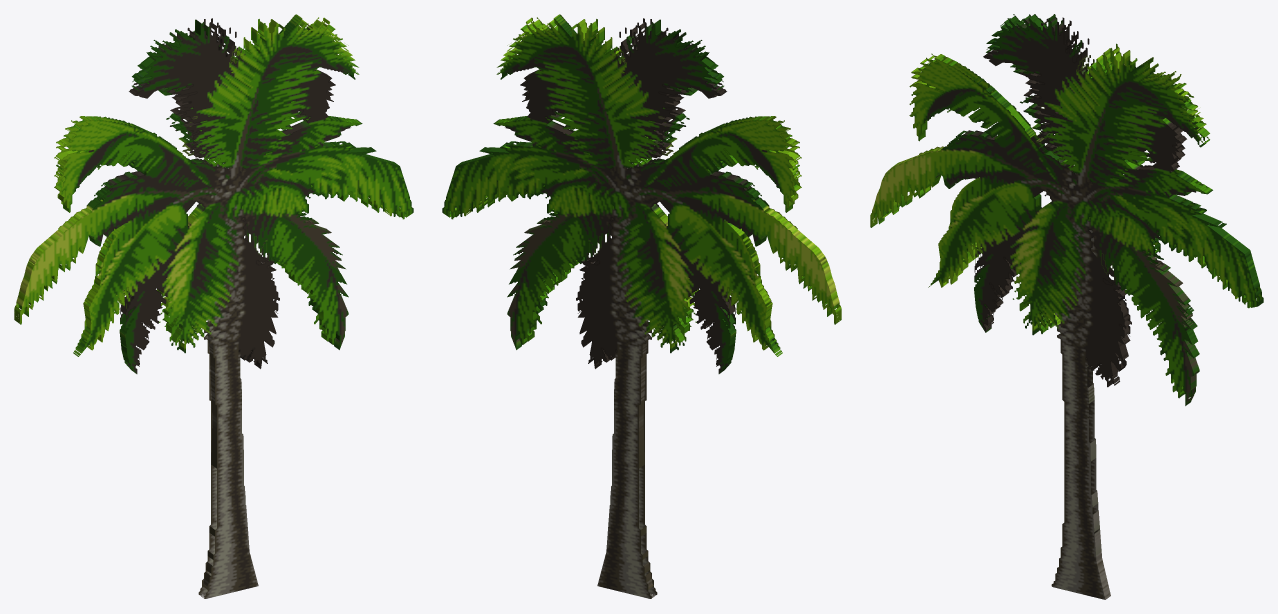
The model's file is tree8-1.fbx.
The picture shows the model from 3 angles, left to right: view 1: azimuth 30°, elevation 25°; view 2: azimuth 150°, elevation 25°; view 3: azimuth 330°, elevation 25°; orthographic projection.
Visible parts, largest first — view 1: Plane; view 2: Plane; view 3: Plane.
Boxes of the visible parts, <box> form: Plane: <box>14,14,413,598</box>; Plane: <box>442,14,841,598</box>; Plane: <box>870,14,1263,599</box>.
Size of the model in its own units: 200 by 280 by 5.
1 material, 1 textured.
